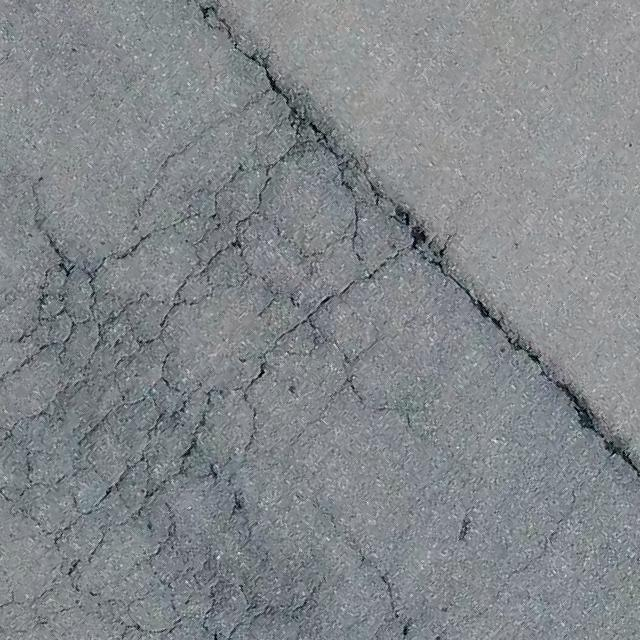GRIETA: (424, 247, 639, 482), (503, 488, 578, 586), (196, 0, 274, 79), (352, 384, 413, 428), (32, 177, 63, 258)
PIEL DE COCODRILO: (0, 78, 439, 639)
